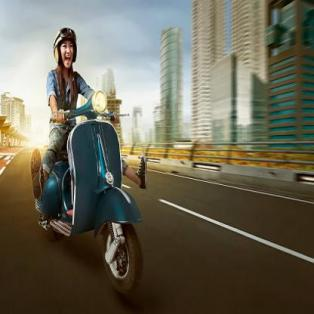Motocicleta: (22, 87, 153, 296)
